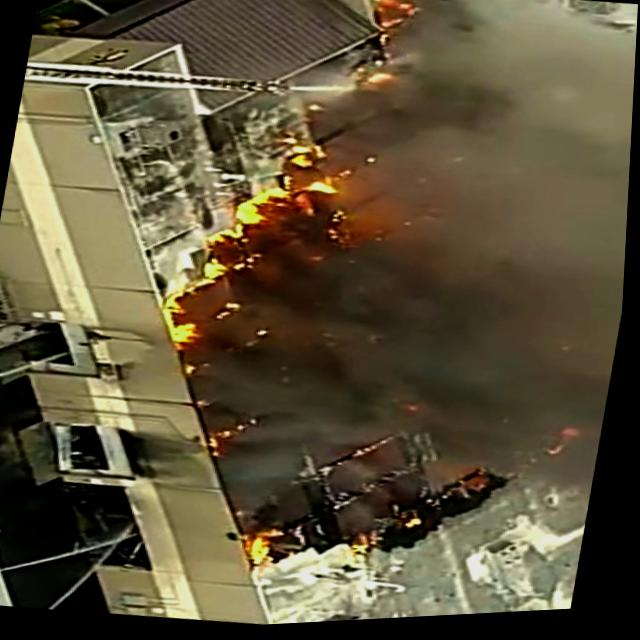smoke: (292, 94, 635, 415)
